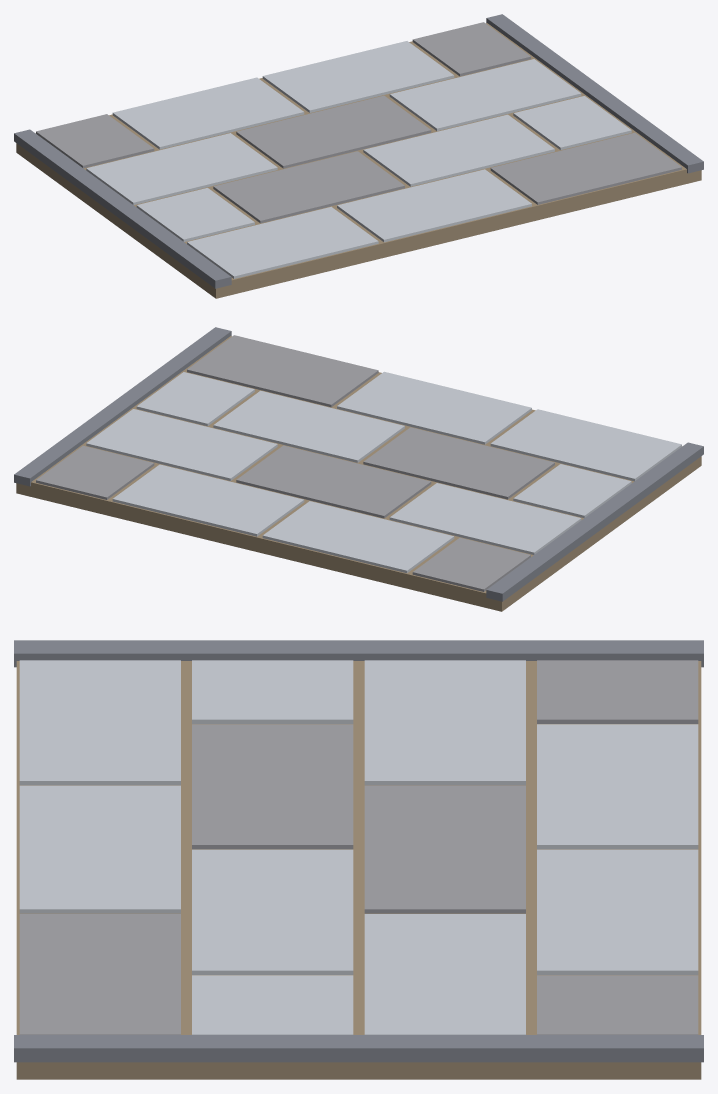
File: CatCafe_Lawn_Path_GreySlabs.glb
3 renders of one model, top to bottom at view 1: azimuth 30°, elevation 25°; view 2: azimuth 150°, elevation 25°; view 3: azimuth 270°, elevation 25°, orthographic. The views are drawn at different scales.
Visible parts, largest first — view 1: CatCafe_Lawn_Path_GreySlabs; view 2: CatCafe_Lawn_Path_GreySlabs; view 3: CatCafe_Lawn_Path_GreySlabs.
Part boxes in pixels (x1=…): CatCafe_Lawn_Path_GreySlabs: x1=14, y1=14, x2=703, y2=298; CatCafe_Lawn_Path_GreySlabs: x1=14, y1=327, x2=703, y2=611; CatCafe_Lawn_Path_GreySlabs: x1=14, y1=640, x2=703, y2=1079.
Bounding box in the file's own units: 7 × 0.26 × 5.
1 material, 1 textured.
